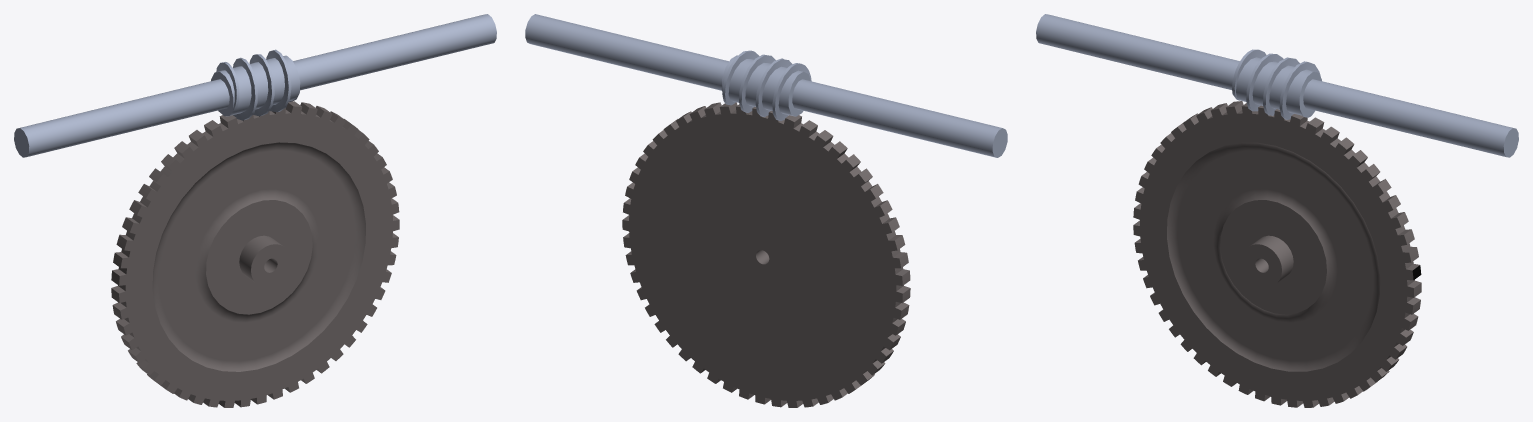
The model's file is WormScrew.24.dae.
The picture shows the model from 3 angles, left to right: view 1: azimuth 30°, elevation 25°; view 2: azimuth 150°, elevation 25°; view 3: azimuth 330°, elevation 25°; orthographic projection.
Visible parts, largest first — view 1: Actor1, Actor0; view 2: Actor1, Actor0; view 3: Actor1, Actor0.
Boxes of the visible parts, x1,y1,x2,y2 form: Actor1: (111, 101, 399, 407); Actor0: (14, 14, 496, 157); Actor1: (622, 102, 910, 407); Actor0: (525, 14, 1007, 157); Actor1: (1133, 101, 1421, 407); Actor0: (1036, 14, 1518, 157).
Size of the model in its own units: 0.35 by 0.2455 by 0.04.
